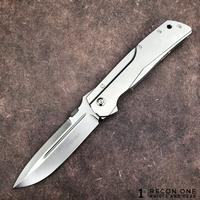knife: (10, 20, 173, 191)
